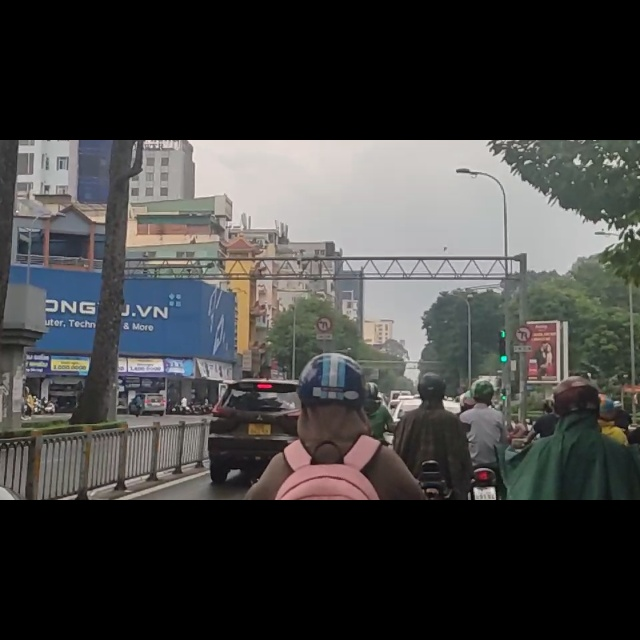bien_cam: (515, 329, 532, 361), (316, 313, 333, 345)
